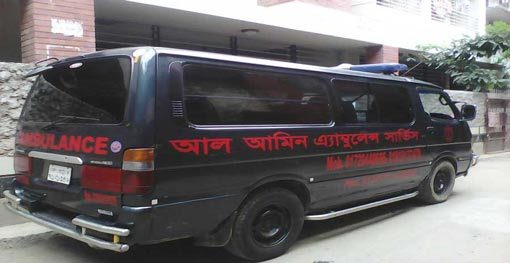ambulance: (1, 46, 478, 263)
